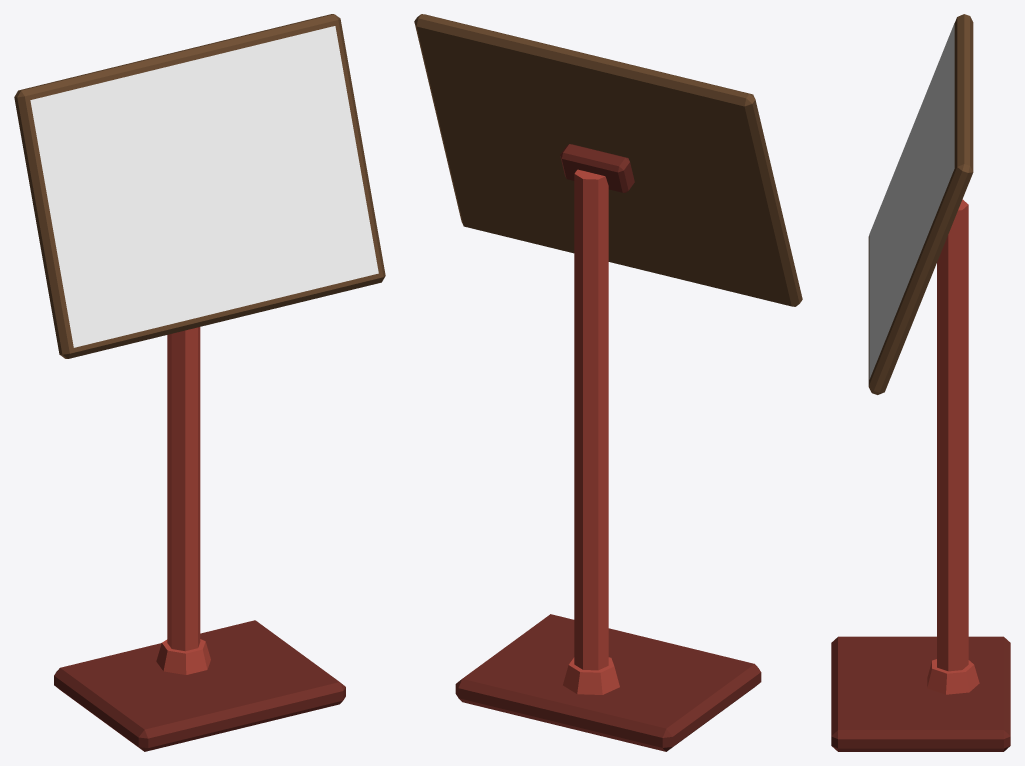
Rendered from panel.glb.
The picture shows the model from 3 angles, left to right: view 1: azimuth 30°, elevation 25°; view 2: azimuth 150°, elevation 25°; view 3: azimuth 270°, elevation 25°; orthographic projection. The views are drawn at different scales.
Visible parts, largest first — view 1: board, panel; view 2: panel; view 3: panel, board.
Boxes of the visible parts, x1,y1,x2,y2 form: board: [30, 26, 378, 347]; panel: [14, 14, 385, 751]; panel: [414, 14, 802, 751]; panel: [831, 14, 1010, 751]; board: [869, 23, 954, 379].
Bounding box in the file's own units: 0.53 × 0.9847 × 0.26.
